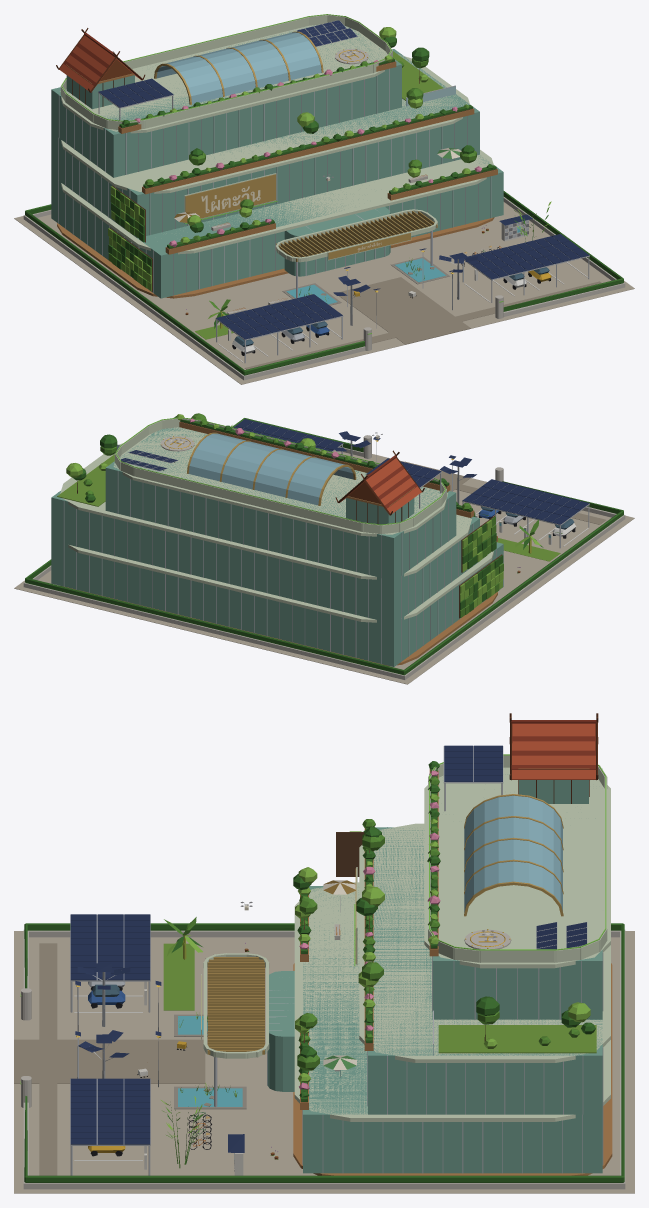
Rendered from store.glb.
3 renders of one model, top to bottom at view 1: azimuth 30°, elevation 25°; view 2: azimuth 150°, elevation 25°; view 3: azimuth 270°, elevation 25°, orthographic. The views are drawn at different scales.
Visible parts, largest first — view 1: body, windows; view 2: body, windows; view 3: body, windows.
Boxes of the visible parts, x1,y1,x2,y2 form: body: (14, 15, 634, 384); windows: (61, 14, 549, 346); body: (14, 413, 634, 684); windows: (115, 417, 574, 537); body: (14, 713, 634, 1193); windows: (20, 754, 606, 1159).
Bounding box in the file's own units: 47.9 × 21.87 × 47.9.
